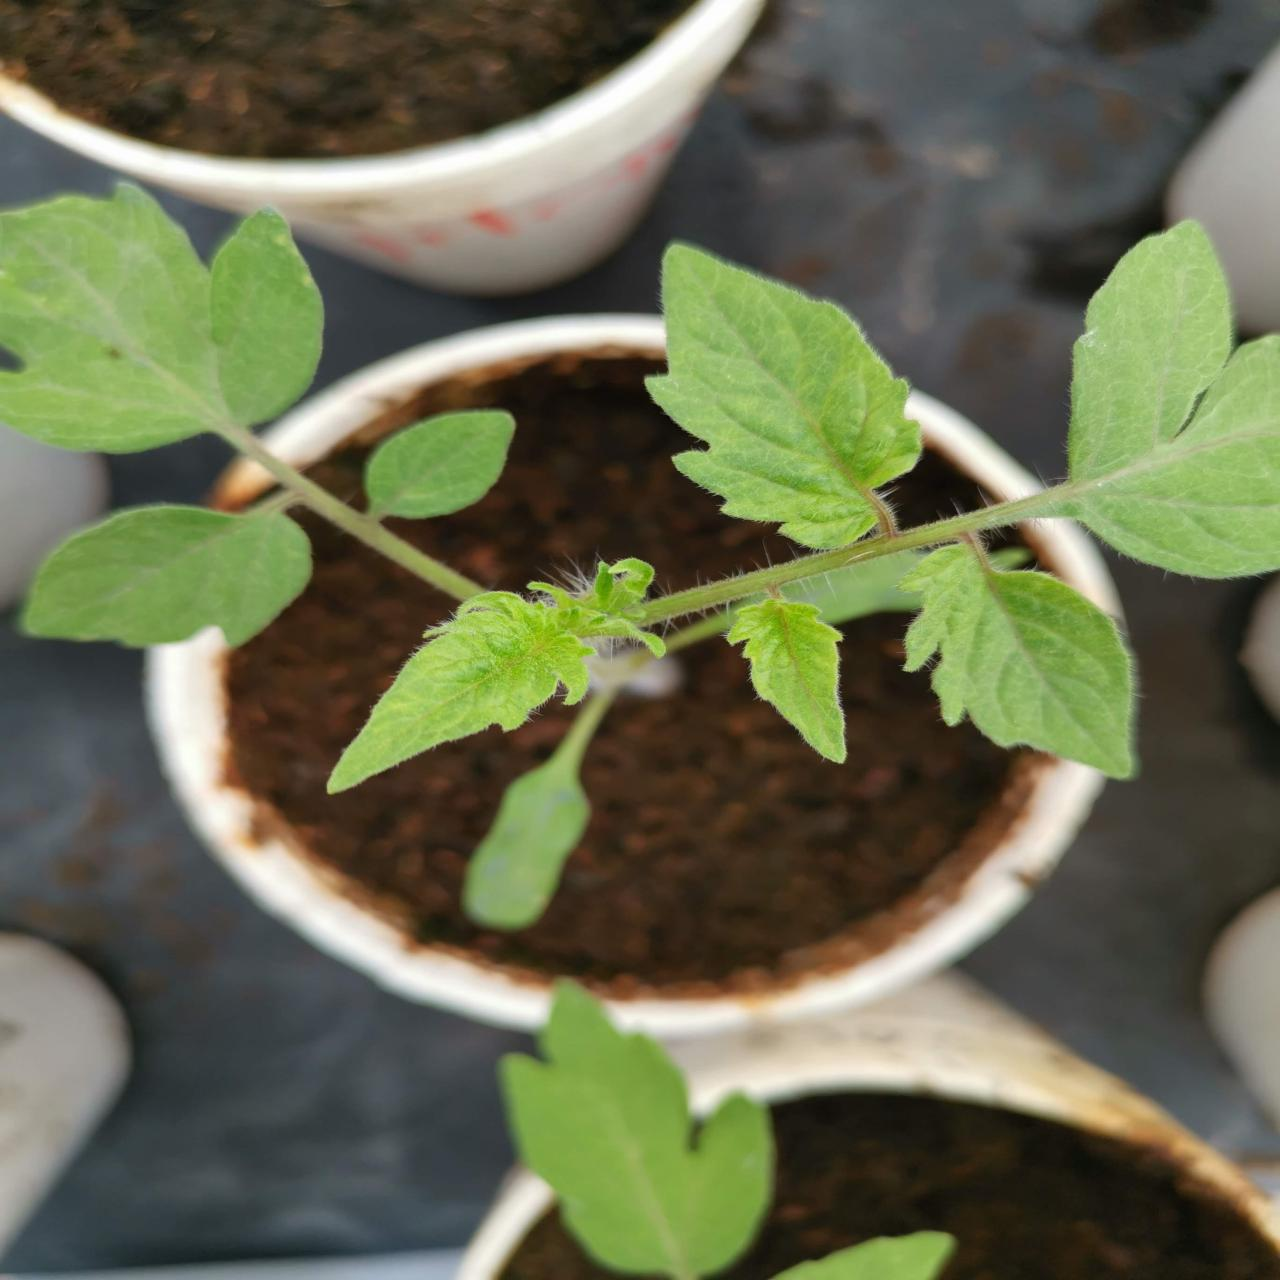T_L_R: (1024, 222, 1280, 580), (1, 183, 326, 454), (645, 244, 922, 552), (328, 559, 667, 795), (900, 542, 1133, 779), (728, 601, 846, 765), (365, 410, 515, 519)
